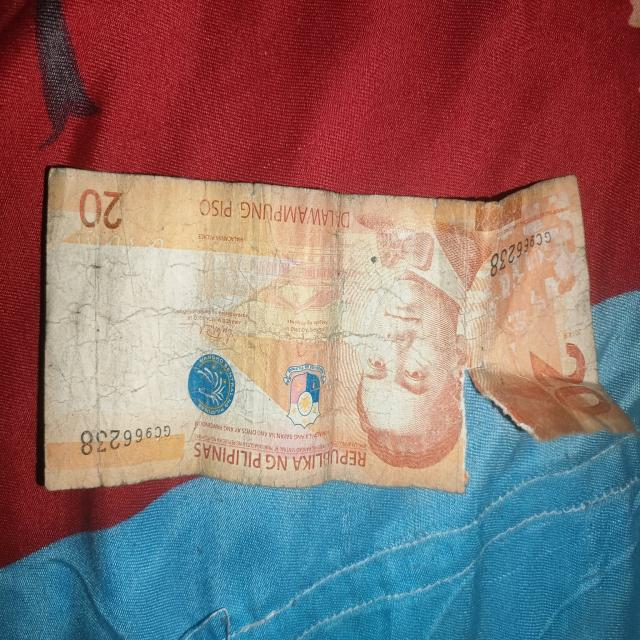broken: (40, 164, 638, 494)
torn: (442, 327, 640, 512)
